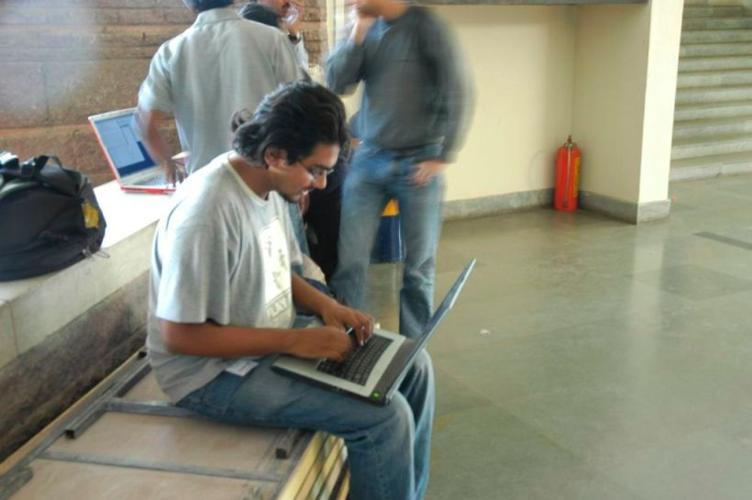person: (147, 82, 438, 500)
